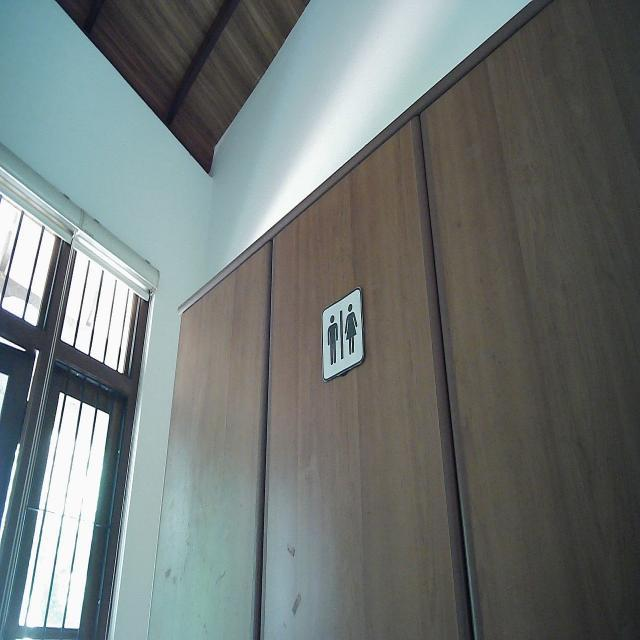restroom: (320, 284, 366, 386)
